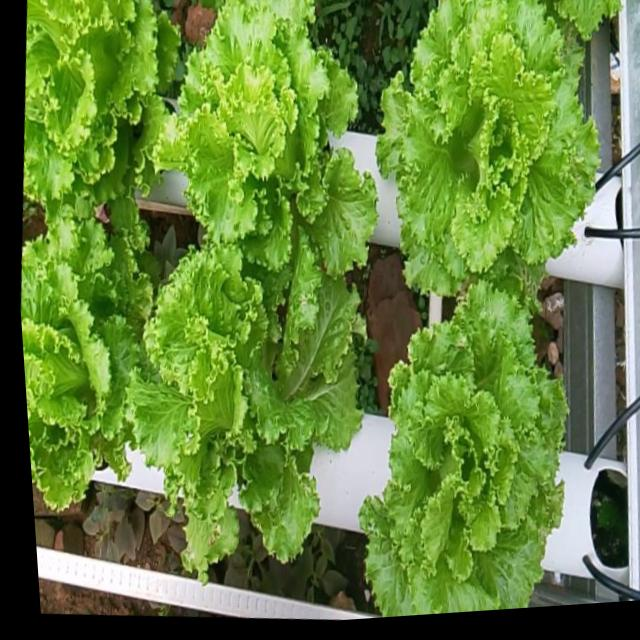Mature: (127, 249, 361, 603), (357, 282, 567, 617), (373, 0, 604, 301), (152, 0, 375, 279), (20, 224, 148, 517), (22, 0, 175, 240)
